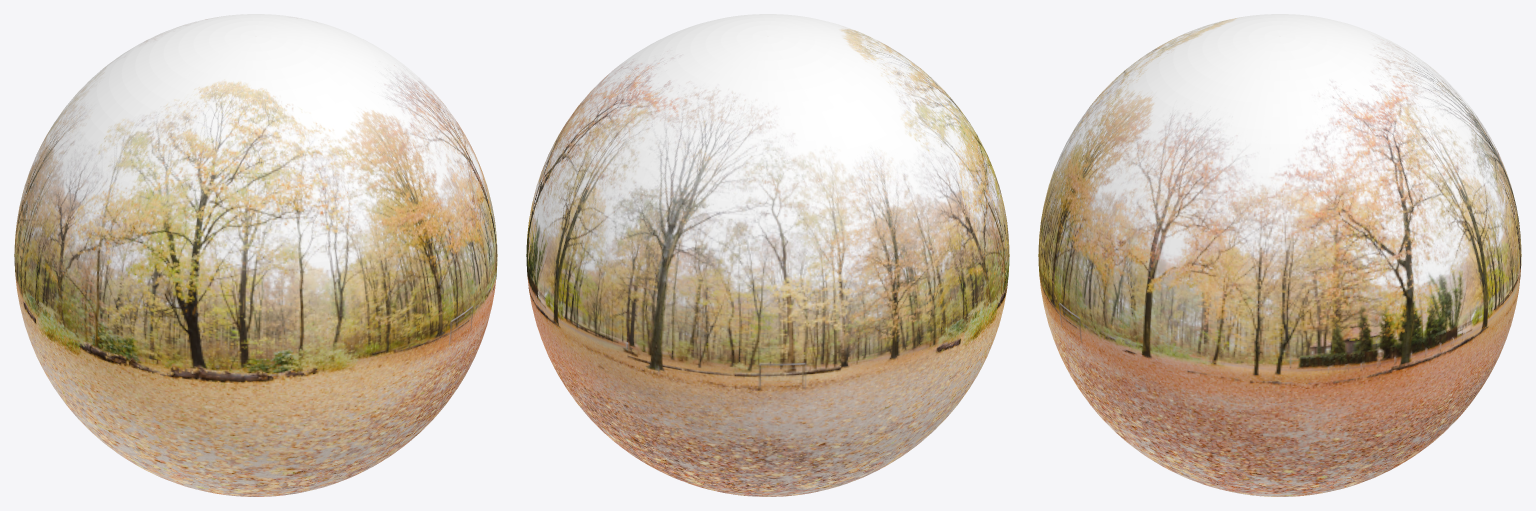
The model's file is salle_techno.glb.
3 renders of one model, left to right at view 1: azimuth 30°, elevation 25°; view 2: azimuth 150°, elevation 25°; view 3: azimuth 270°, elevation 25°, orthographic.
Visible parts, largest first — view 1: Exterior; view 2: Exterior; view 3: Exterior.
Boxes of the visible parts, x1,y1,x2,y2 form: Exterior: (14, 14, 497, 496); Exterior: (526, 14, 1009, 496); Exterior: (1038, 14, 1521, 496).
Bounding box in the file's own units: 90 × 90 × 90.
Materials: 96 (95 with a texture image).
